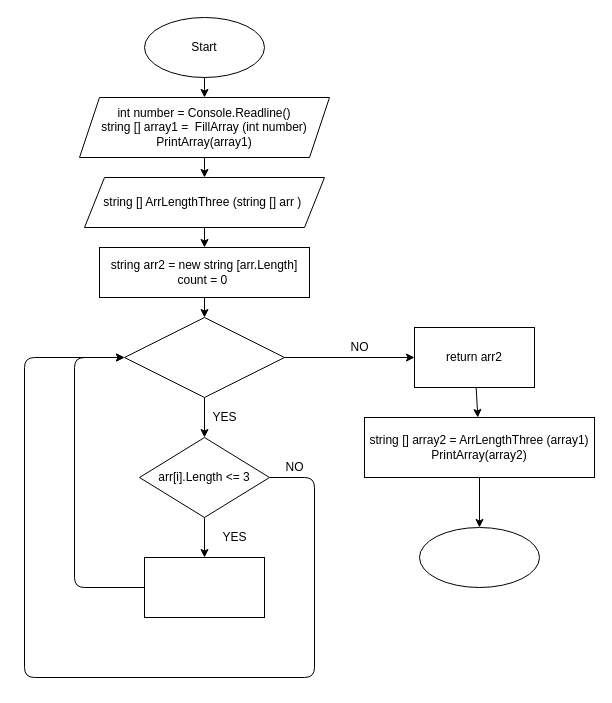
The diagram is 612 pixels wide and 703 high, and some of its shapes have lost their labels. Here are the shapes that lost their labels. From the top down, the centre of each, then its label:
At point 204,357: "i < arr.Length".
At point 479,557: "Finish".
At point 204,587: "arr2[count] = arr[i] count ++".
